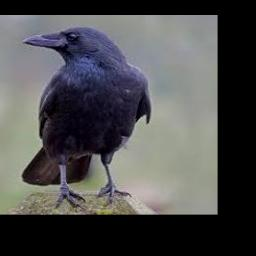Crow: (20, 27, 151, 210)
